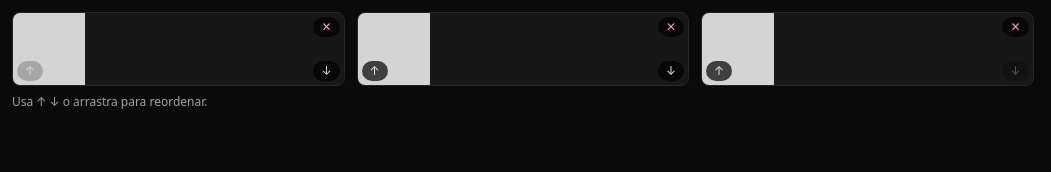
MediaReorderGrid › revierte el orden y muestra un error si falla la persistencia
The image size is (1051, 172).
Click the button named "Mover foto 2 a la posición 1".
click(374, 71)  # box [362, 61, 388, 81]
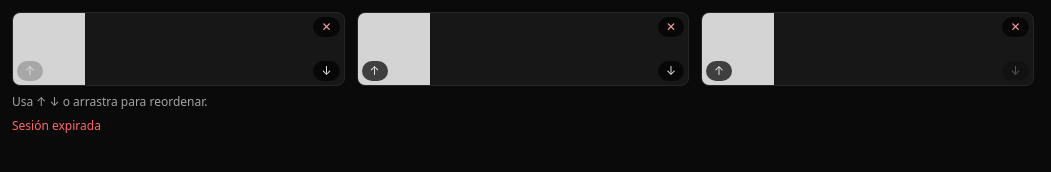
Check: the message reads "Sesión expirada", box [12, 117, 101, 134]
